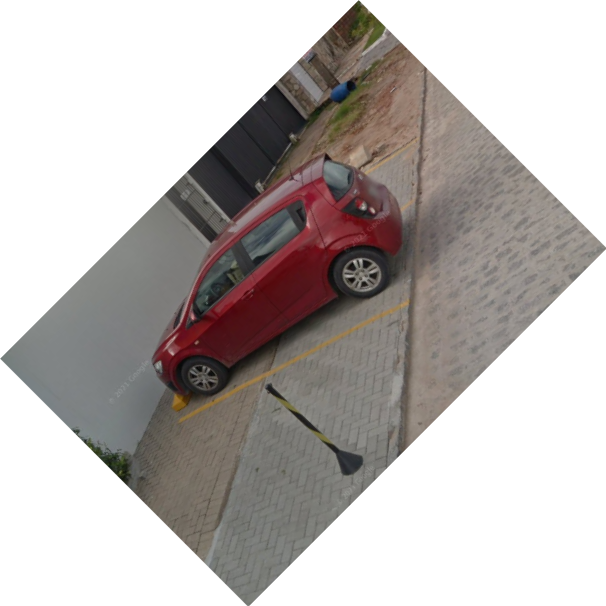car: (148, 149, 406, 401)
